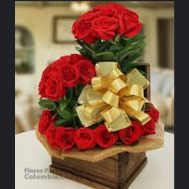RedRose: (43, 71, 68, 105), (91, 14, 119, 41), (53, 123, 76, 151), (74, 57, 94, 82), (74, 127, 97, 148)
